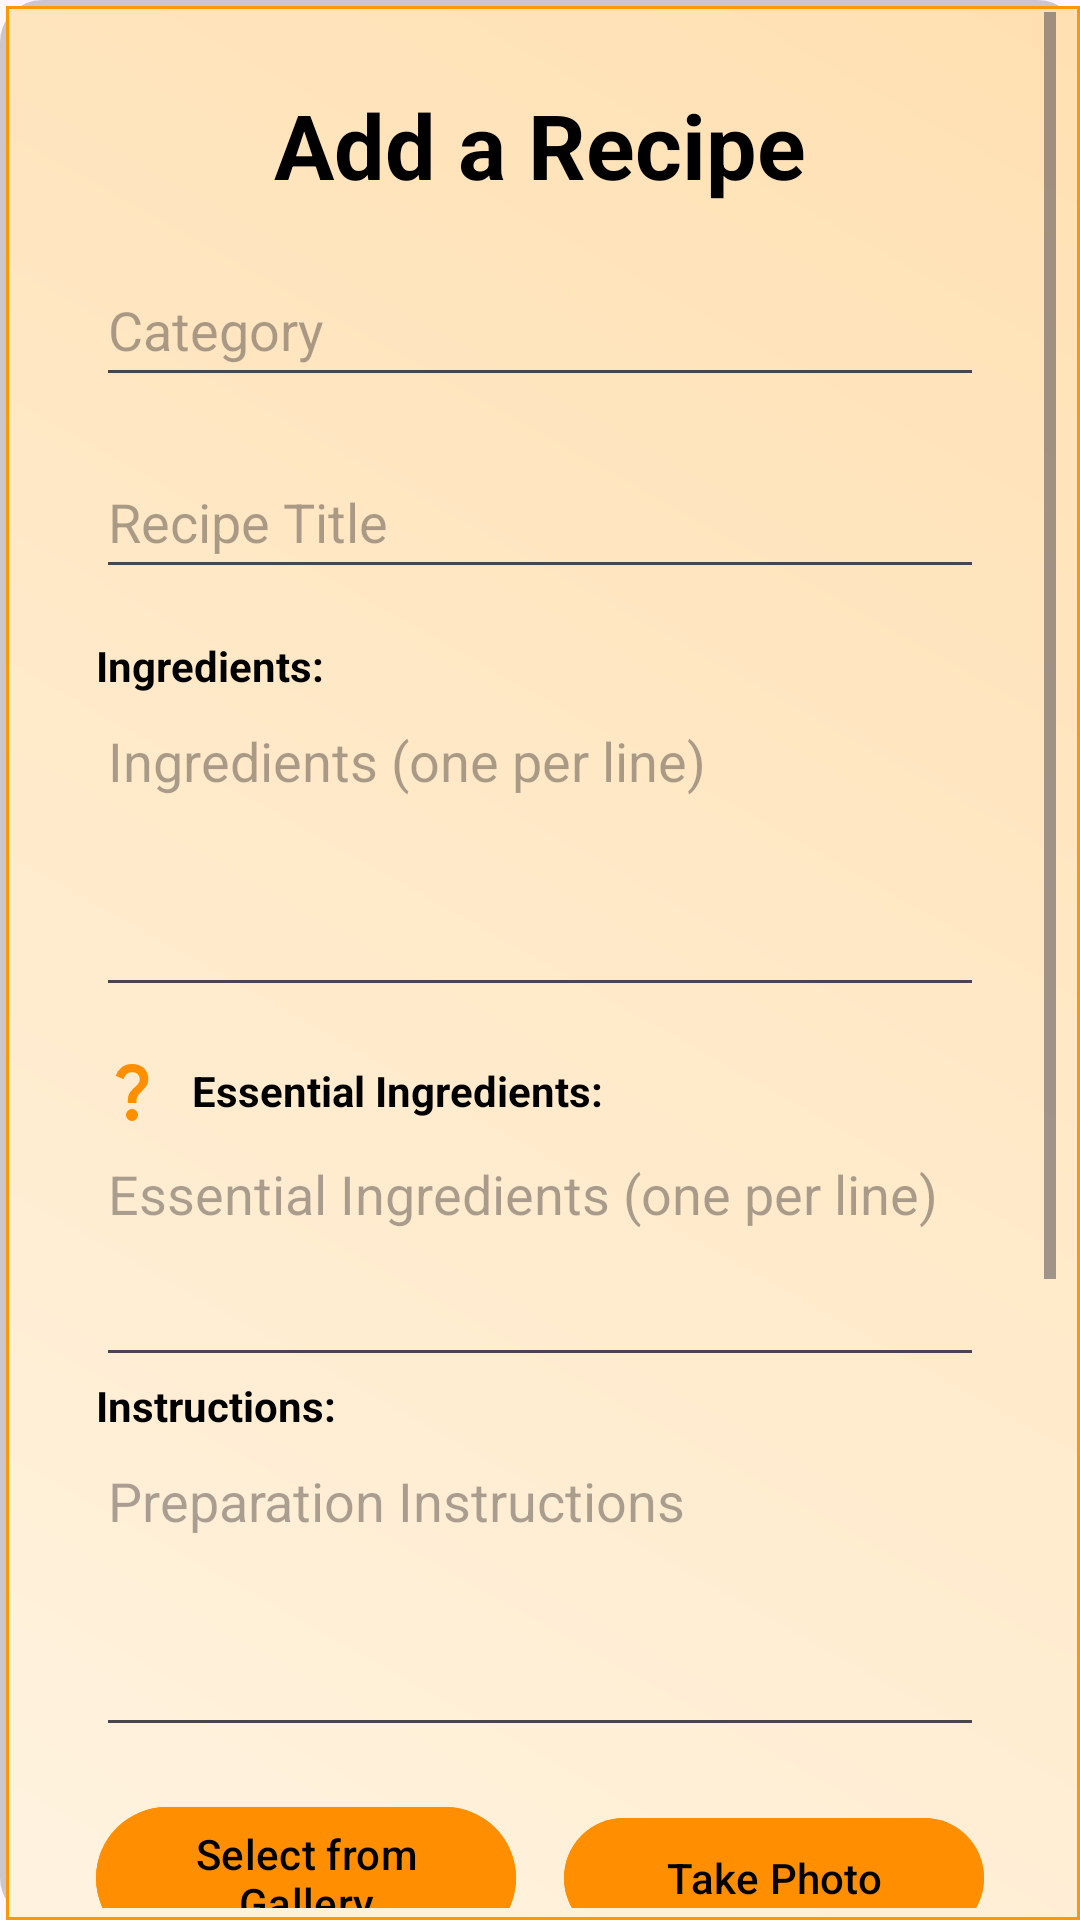

Icon bounding boxes for this 1080×1920 phone screenshot, format (x1, y1, x2, y2):
question mark: (115, 1064, 149, 1121)
